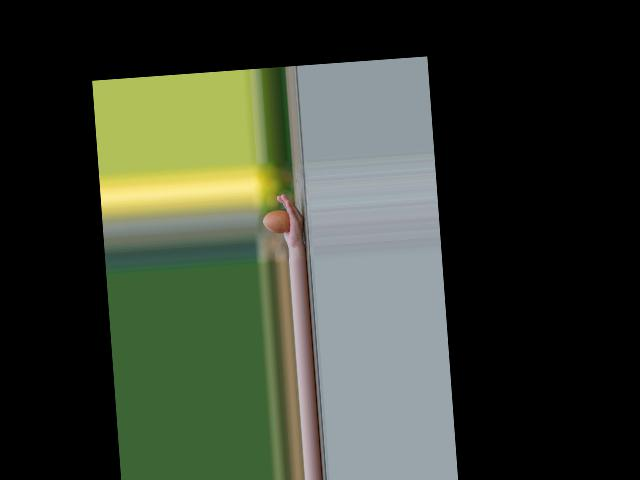egg: (262, 210, 291, 235)
